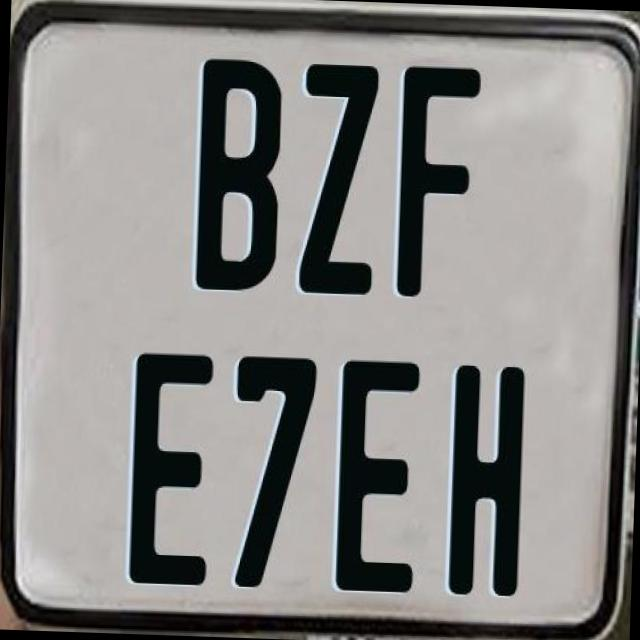7: (229, 356, 320, 594)
B: (195, 58, 286, 294)
E: (124, 348, 218, 592), (330, 358, 424, 596)
F: (392, 64, 478, 298)
H: (448, 365, 526, 599)
Z: (294, 60, 377, 296)
